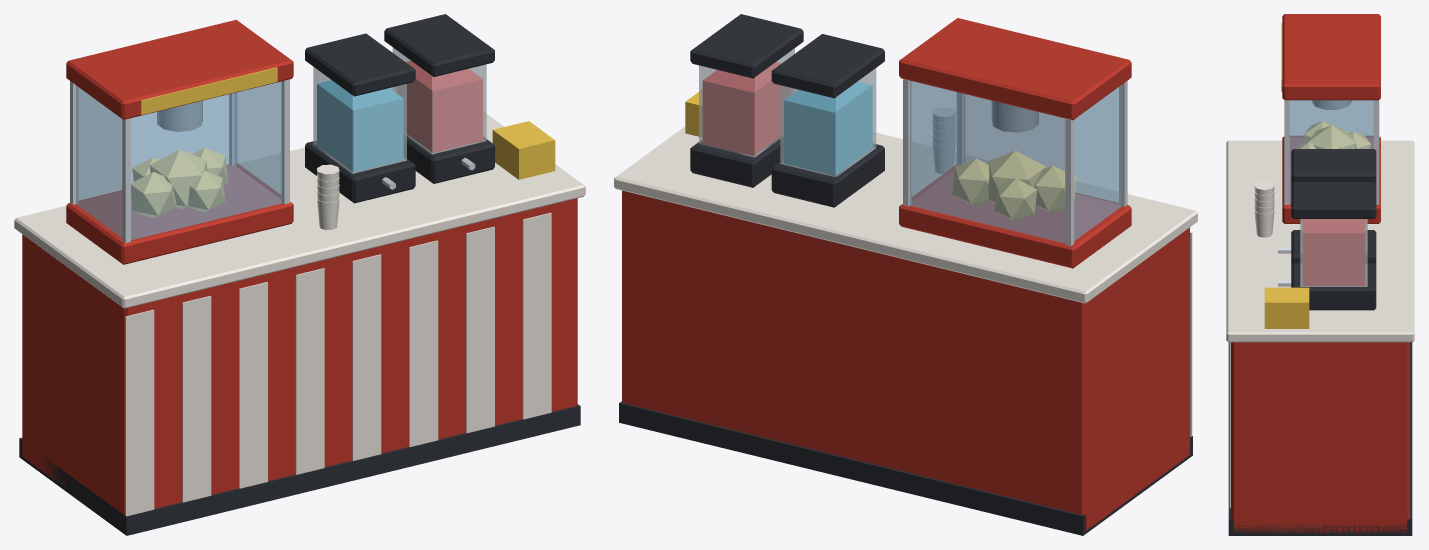
The model's file is concession_stand.glb.
3 renders of one model, left to right at view 1: azimuth 30°, elevation 25°; view 2: azimuth 150°, elevation 25°; view 3: azimuth 270°, elevation 25°, orthographic. The views are drawn at different scales.
Parts seen in each view (by area): view 1: concession_stand; view 2: concession_stand; view 3: concession_stand.
Part boxes in pixels (x1=…): concession_stand: x1=14, y1=14, x2=585, y2=535; concession_stand: x1=614, y1=14, x2=1197, y2=535; concession_stand: x1=1226, y1=14, x2=1414, y2=535.
Bounding box in the file's own units: 2.04 × 1.7 × 0.84.
